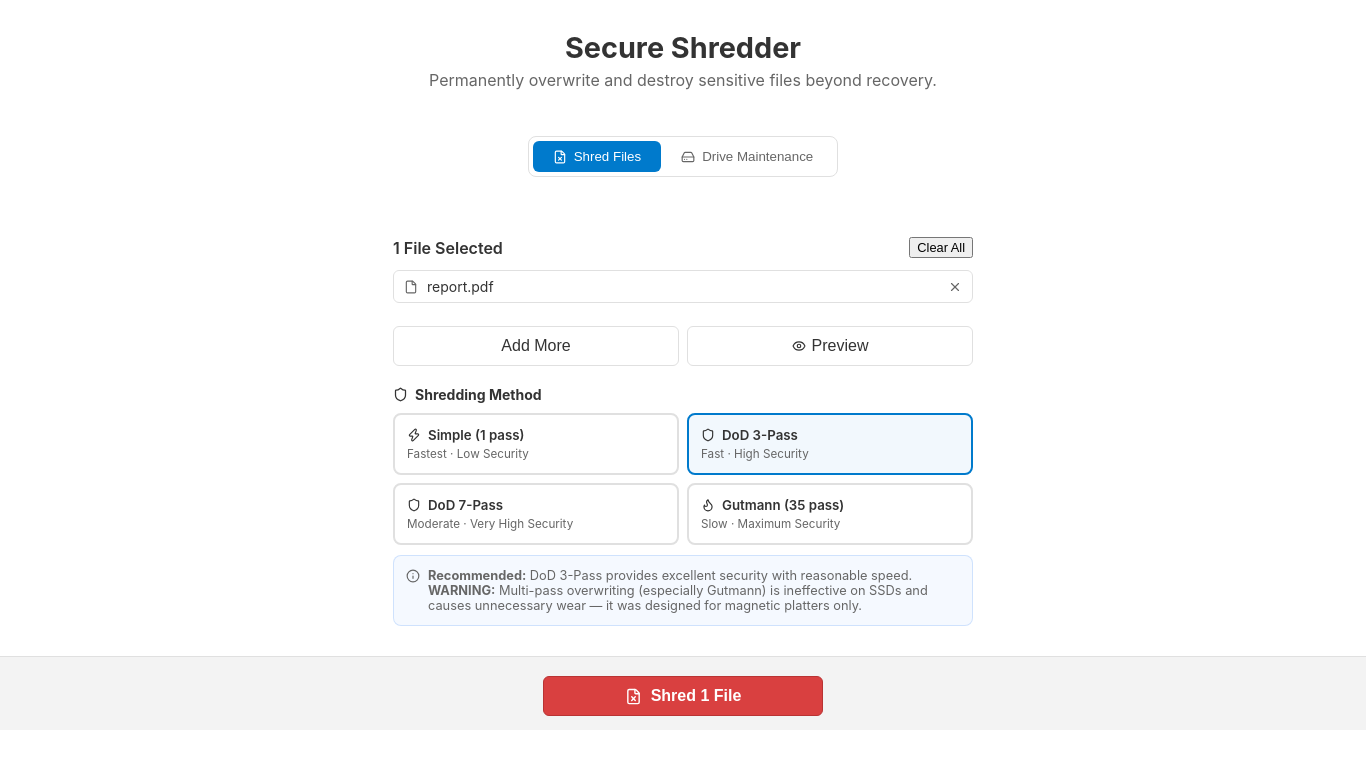
formatSize (via UI rendering) › shows formatted size in the dry-run preview
The image size is (1366, 768).
Click the button "Preview" at x=830, y=346, box [687,326,973,366]
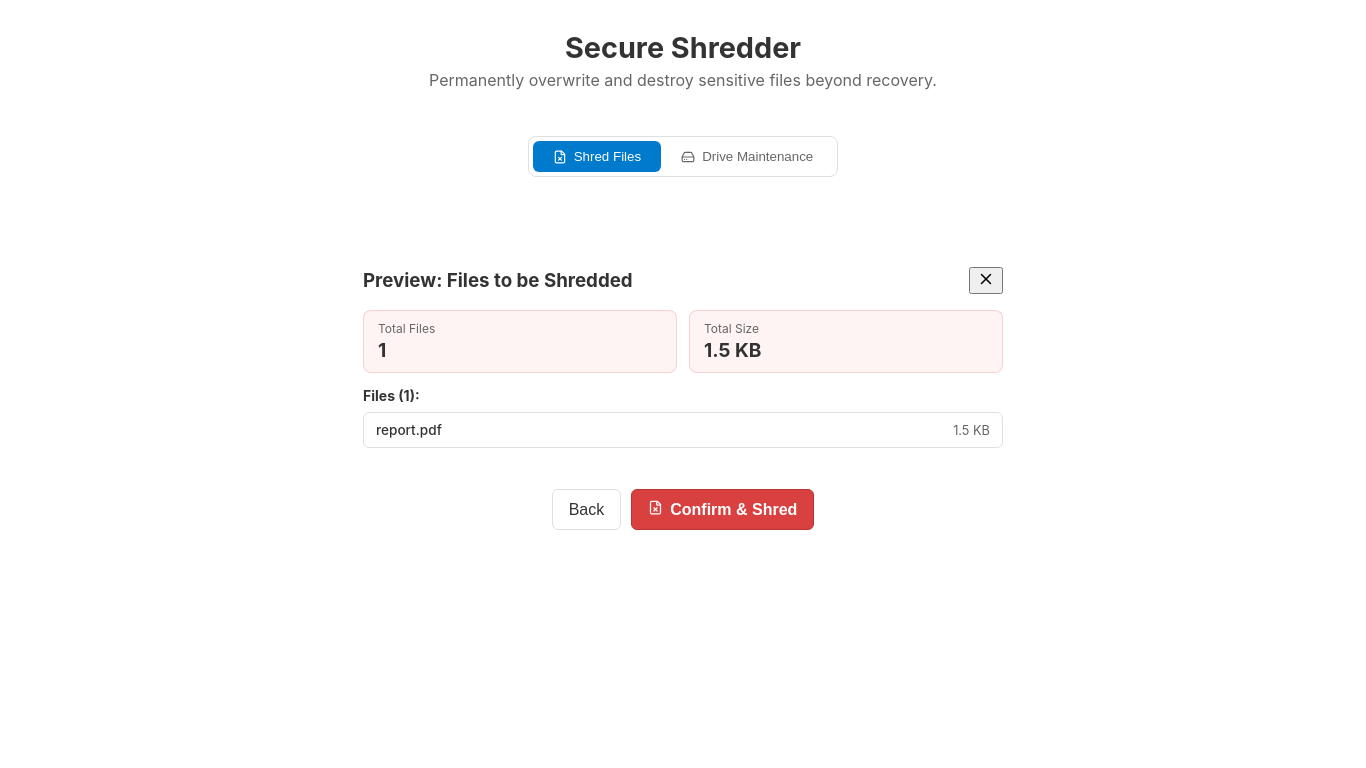
Result: the text "1.5 KB" below "Total Size" is shown at [704,338,762,362]
